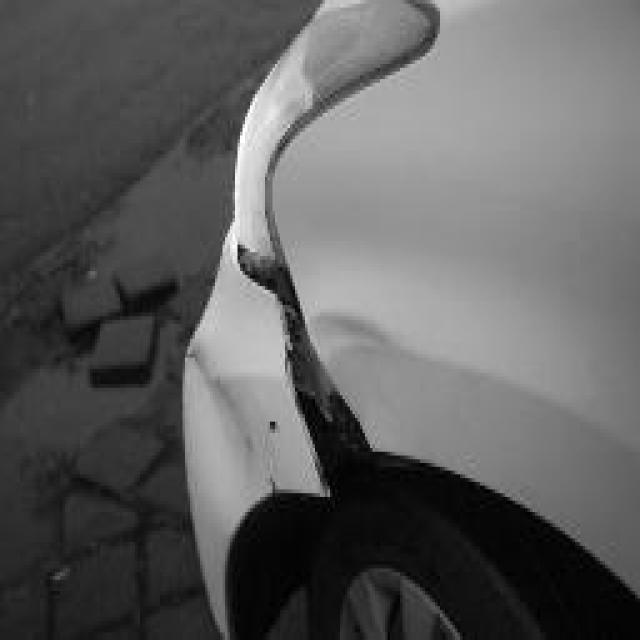Bumper: (182, 269, 370, 640)
